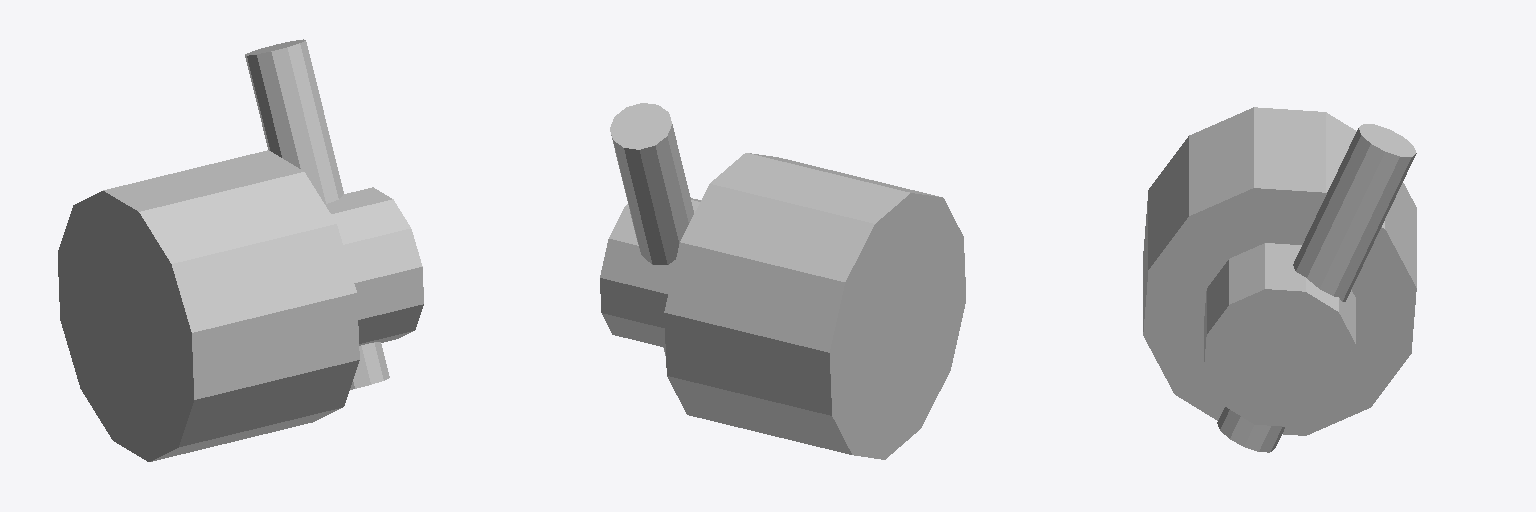
File: con01.obj
3 views of the same model, side by side, from view 1: azimuth 30°, elevation 25°; view 2: azimuth 150°, elevation 25°; view 3: azimuth 270°, elevation 25° (orthographic).
Visible parts, largest first — view 1: Cylinder.003_Grey_0; view 2: Cylinder.003_Grey_0; view 3: Cylinder.003_Grey_0.
Part boxes in pixels (x1,y1,x2,y2): Cylinder.003_Grey_0: (58, 39, 423, 461); Cylinder.003_Grey_0: (600, 103, 965, 459); Cylinder.003_Grey_0: (1143, 107, 1416, 452).
Bounding box in the file's own units: 9.5 × 11.36 × 8.66.